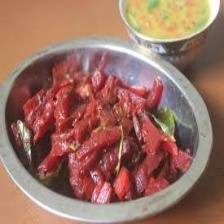dal: (120, 0, 222, 41)
